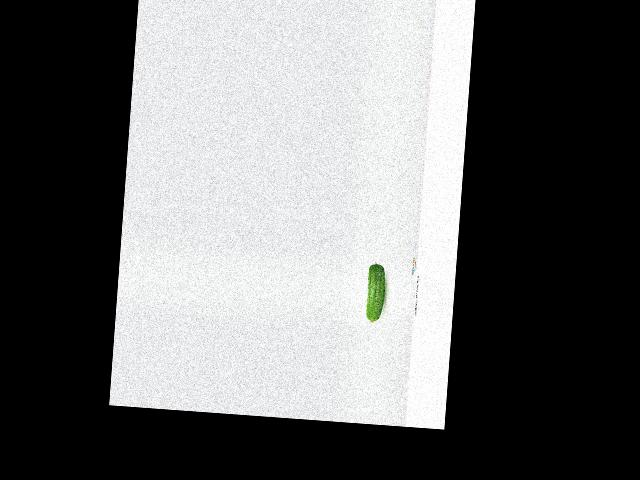cucumber: (364, 261, 386, 324)
